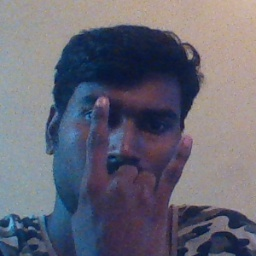V: (70, 93, 196, 254)
